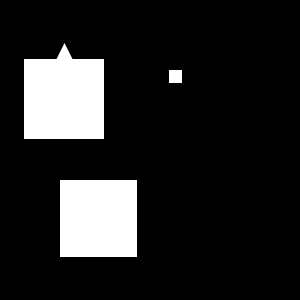circle: (24, 59, 104, 139), (60, 180, 137, 257), (169, 70, 182, 83)
triangle: (50, 43, 79, 72)
